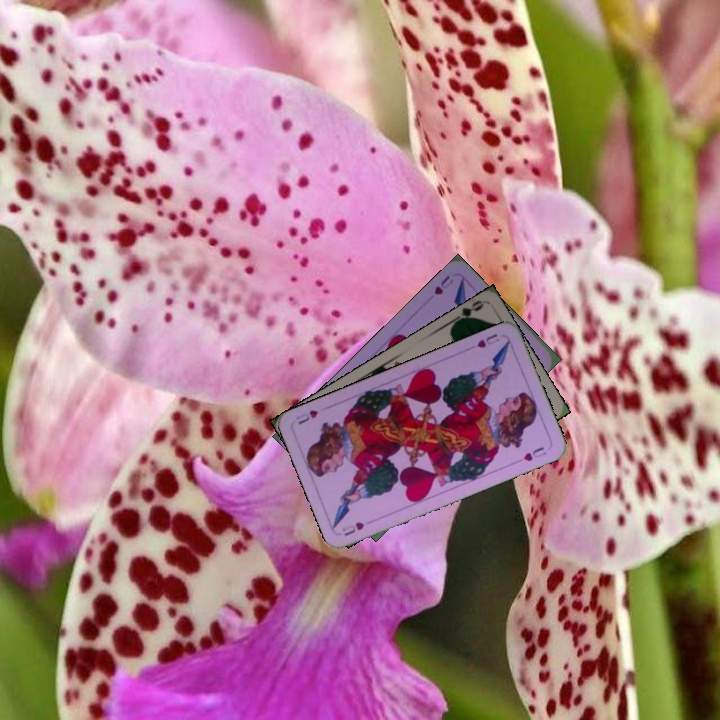GO: (448, 297, 486, 327)
HU: (338, 515, 377, 539), (430, 271, 456, 297), (473, 329, 502, 351)
